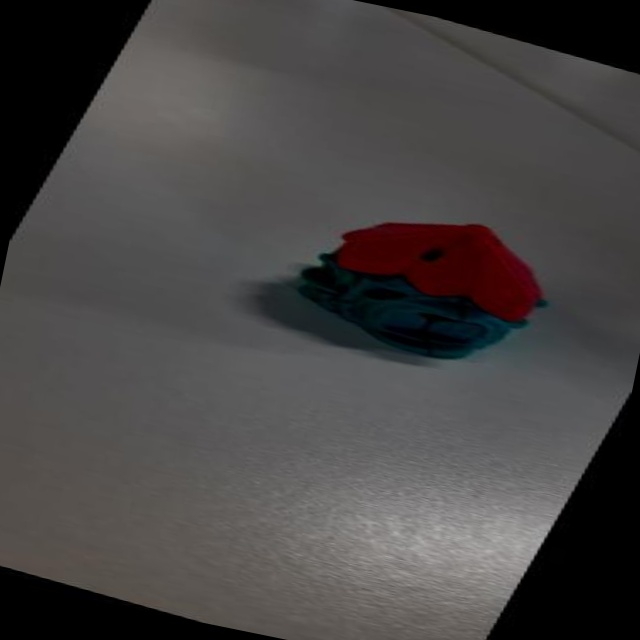House: (247, 164, 589, 391)
